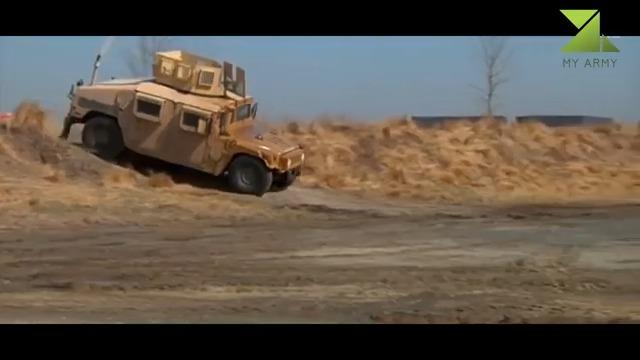MIL_HMMWV: (66, 75, 305, 196)
